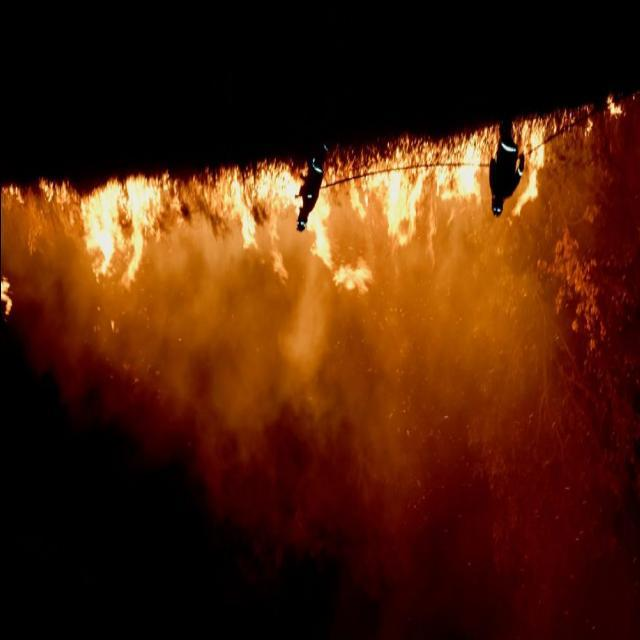Fire: (311, 136, 495, 296), (35, 178, 187, 316), (195, 166, 299, 316), (516, 119, 548, 223), (604, 93, 626, 121), (1, 274, 14, 320), (3, 184, 23, 208), (582, 107, 592, 137)
